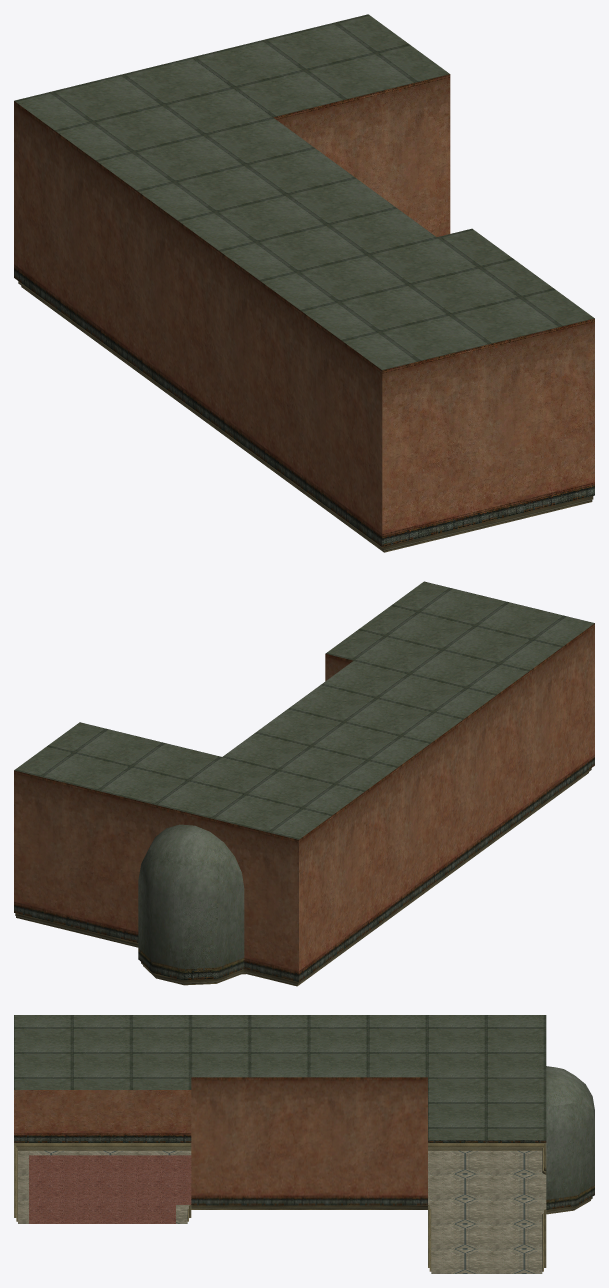
Rendered from mun_corl_guild_theater_s01_r2_hallway1_mesh_r2.fbx.
3 renders of one model, top to bottom at view 1: azimuth 30°, elevation 25°; view 2: azimuth 150°, elevation 25°; view 3: azimuth 270°, elevation 25°, orthographic. The views are drawn at different scales.
Visible parts, largest first — view 1: mesh_node; view 2: mesh_node; view 3: mesh_node.
Boxes of the visible parts, x1,y1,x2,y2 form: mesh_node: (14,14,594,552); mesh_node: (14,581,594,986); mesh_node: (14,1015,594,1273).
Size of the model in its own units: 10 by 5 by 19.65.
